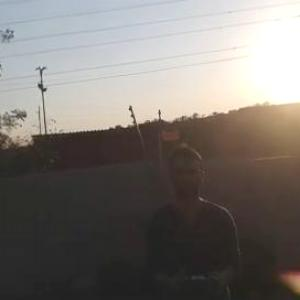follow: (136, 139, 247, 299)
